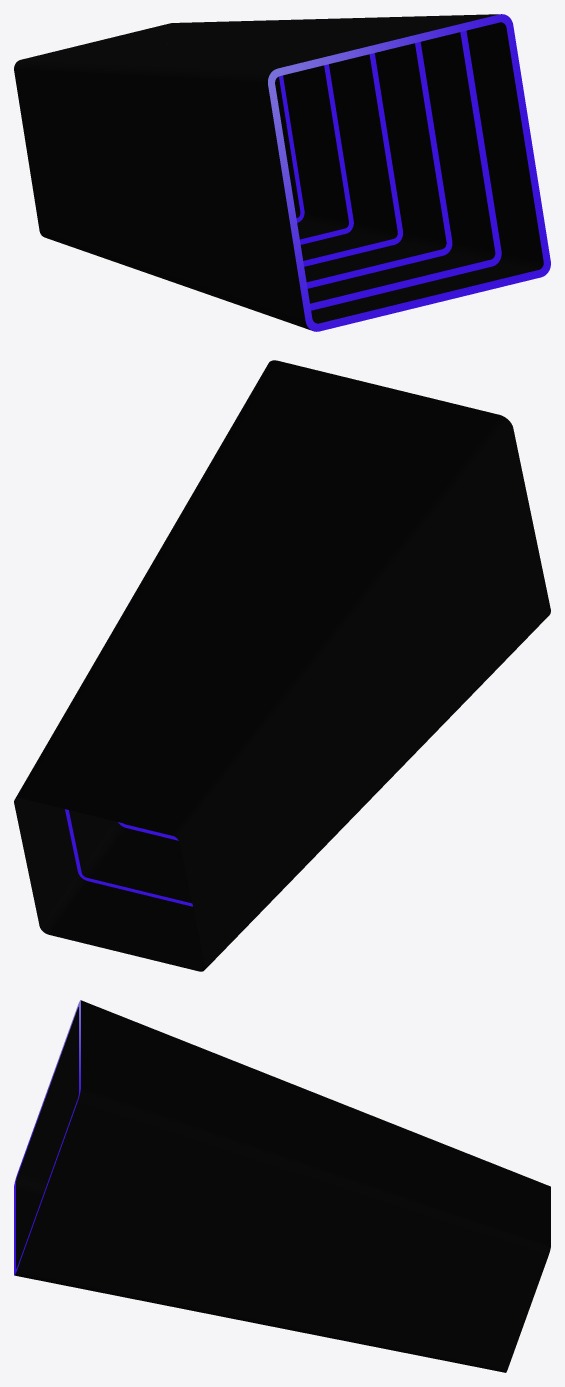
File: orig.obj
3 renders of one model, top to bottom at view 1: azimuth 30°, elevation 25°; view 2: azimuth 150°, elevation 25°; view 3: azimuth 270°, elevation 25°, orthographic. The views are drawn at different scales.
Parts seen in each view (by area): view 1: Object01, Rectangle01; view 2: Object01, Rectangle01; view 3: Object01, Rectangle01.
Part boxes in pixels (left/top/right/bottom): Object01: left=14, top=14, right=543, bottom=330; Rectangle01: left=268, top=14, right=550, bottom=331; Object01: left=14, top=360, right=550, bottom=971; Rectangle01: left=65, top=809, right=192, bottom=906; Object01: left=14, top=1000, right=550, bottom=1372; Rectangle01: left=14, top=1000, right=80, bottom=1275.
Size of the model in its own units: 63 by 91.23 by 149.
